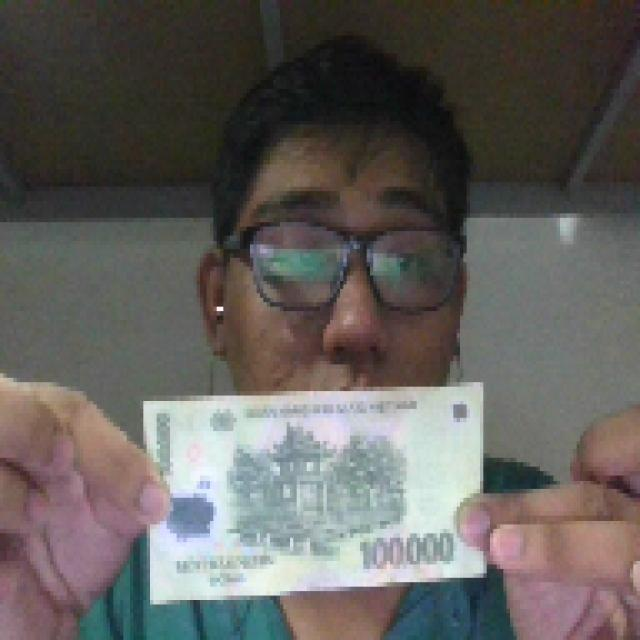100 000 VND: (136, 376, 489, 607)
